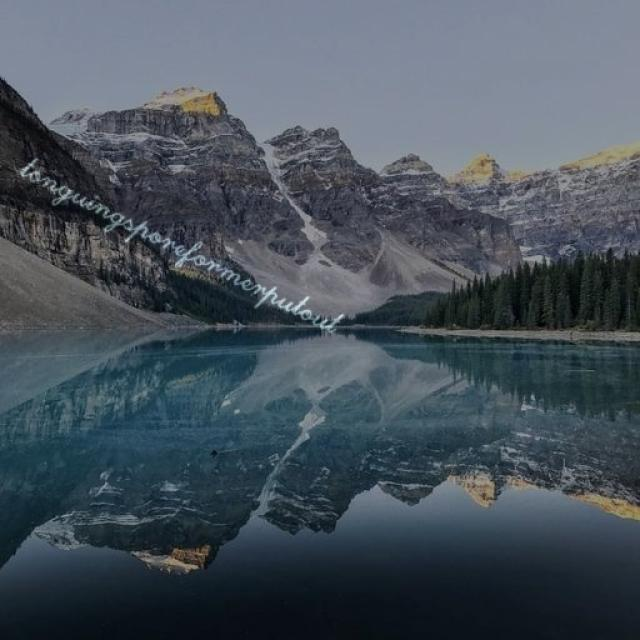watermark: (12, 150, 355, 339)
